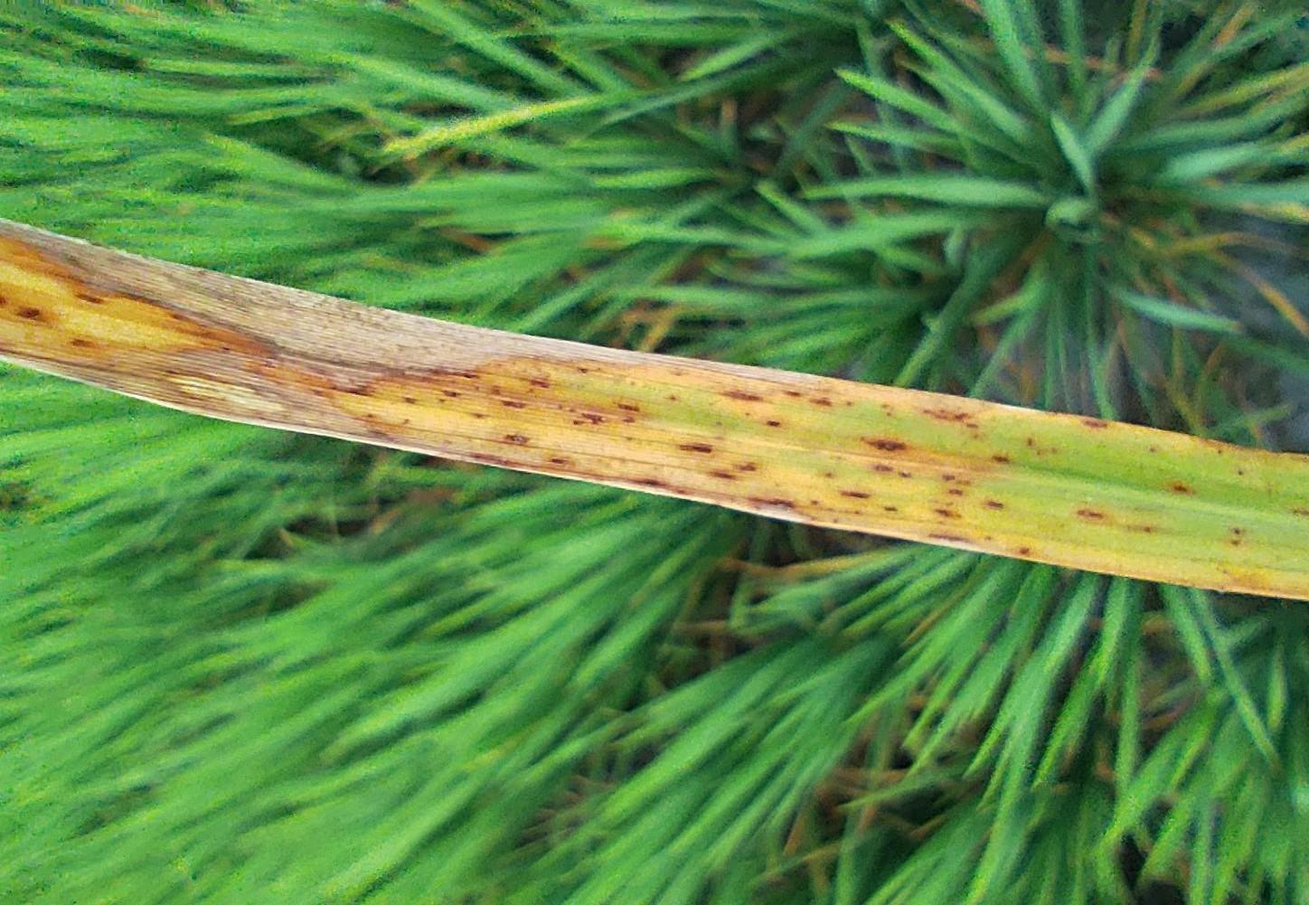LEAF: (0, 220, 1308, 599)
NBS: (861, 440, 909, 453), (717, 390, 763, 401), (677, 443, 712, 455), (838, 490, 873, 499), (708, 470, 736, 480), (1082, 419, 1108, 429), (928, 534, 965, 541), (731, 463, 758, 472), (616, 402, 640, 412), (1077, 510, 1102, 519), (809, 399, 833, 408), (546, 457, 568, 465), (964, 421, 980, 430), (779, 391, 800, 397), (1173, 486, 1187, 493)
